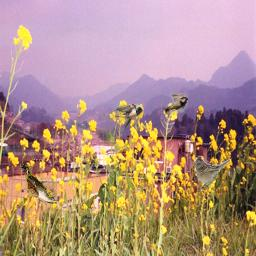Cuckoo: (20, 164, 57, 204)
Sparrow: (194, 157, 230, 190), (163, 93, 188, 115)
Swallow: (103, 104, 143, 128)
